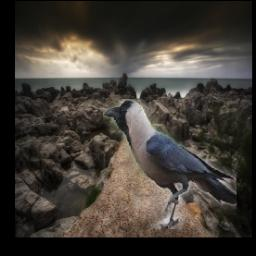Crow: (103, 100, 237, 230)
